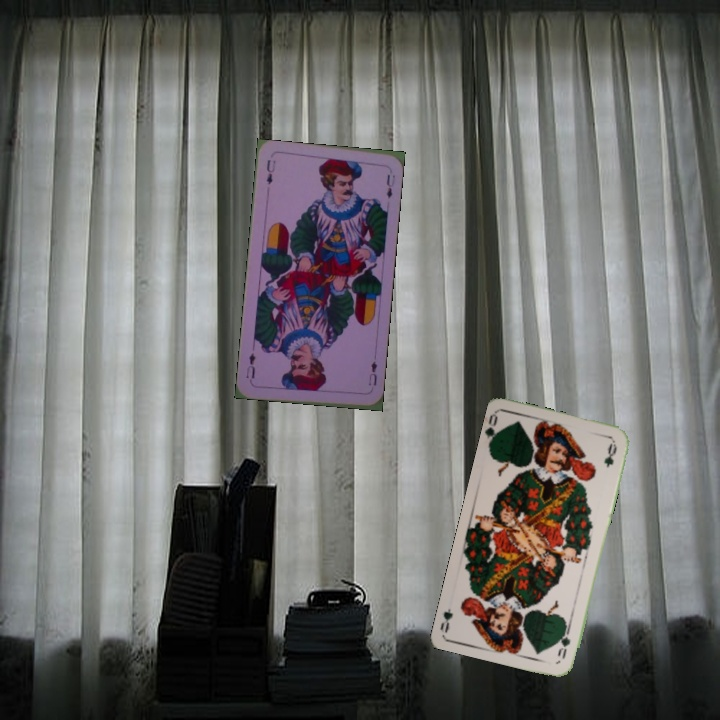EU: (262, 156, 278, 187), (365, 357, 380, 388)
GO: (482, 410, 505, 451), (554, 622, 573, 661)
